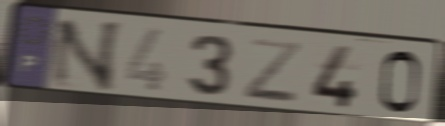0: (378, 48, 422, 115)
3: (184, 33, 238, 98)
4: (309, 43, 360, 110), (123, 25, 169, 95)
N: (47, 18, 126, 93)
Z: (241, 36, 304, 106)
